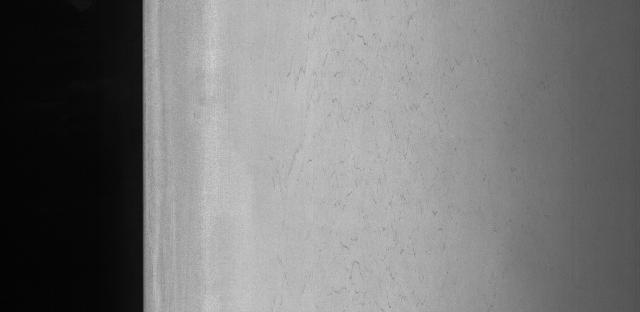silk_spot: (295, 0, 447, 295)
